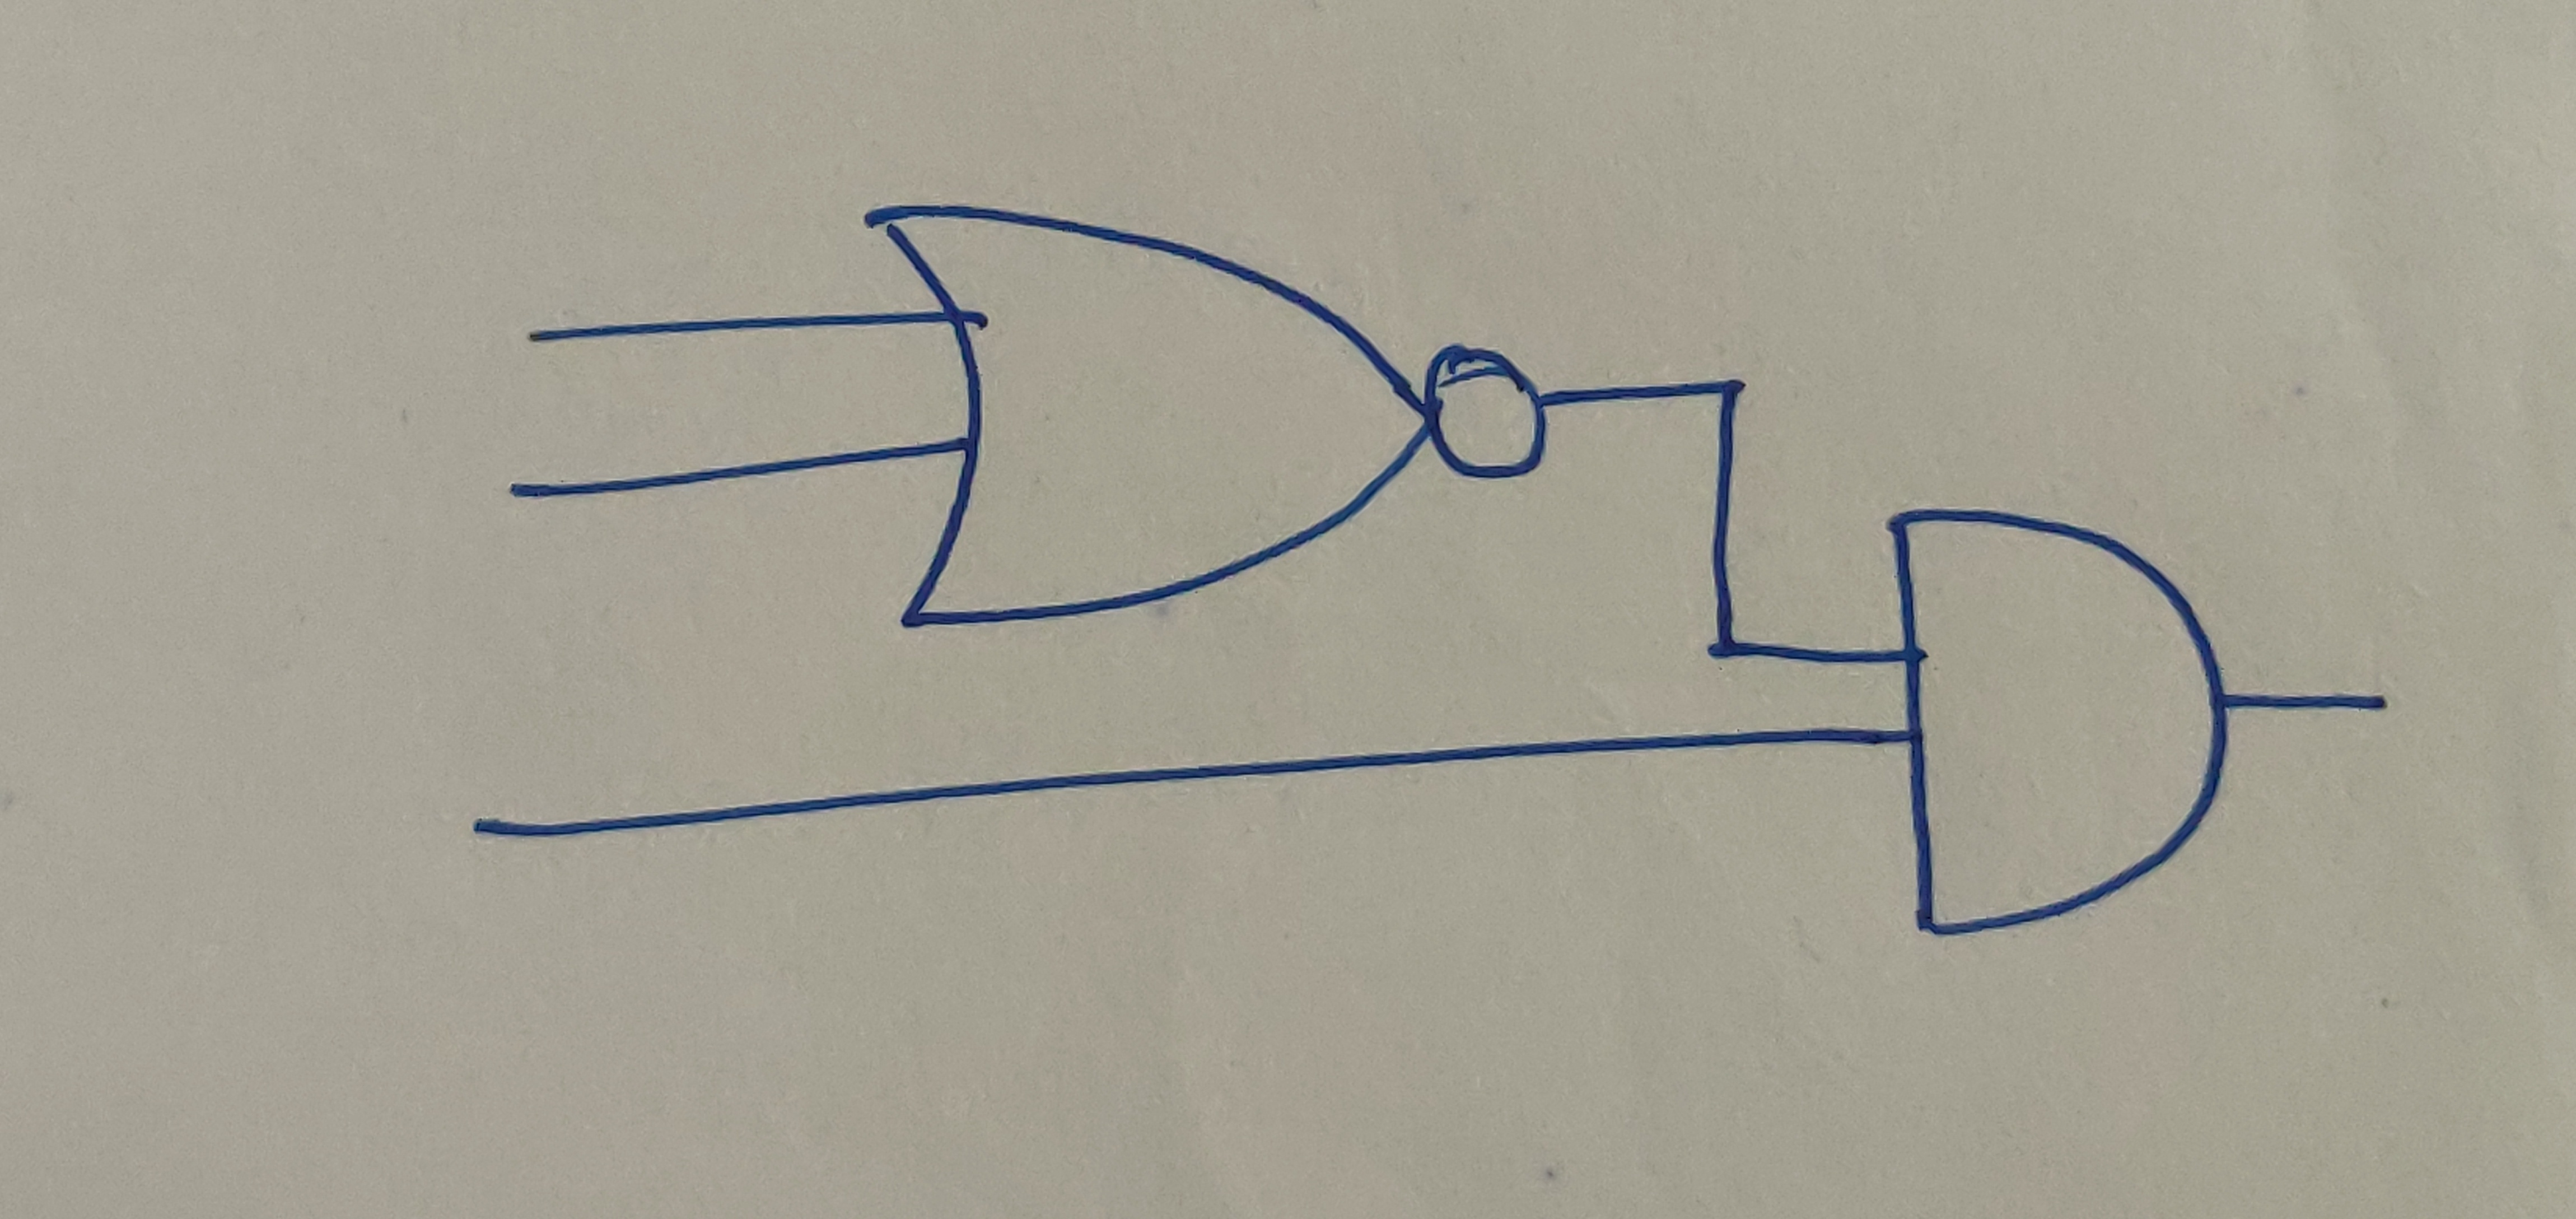and: (1888, 508, 2233, 943)
not: (1419, 342, 1551, 488)
or: (856, 200, 1436, 632)
